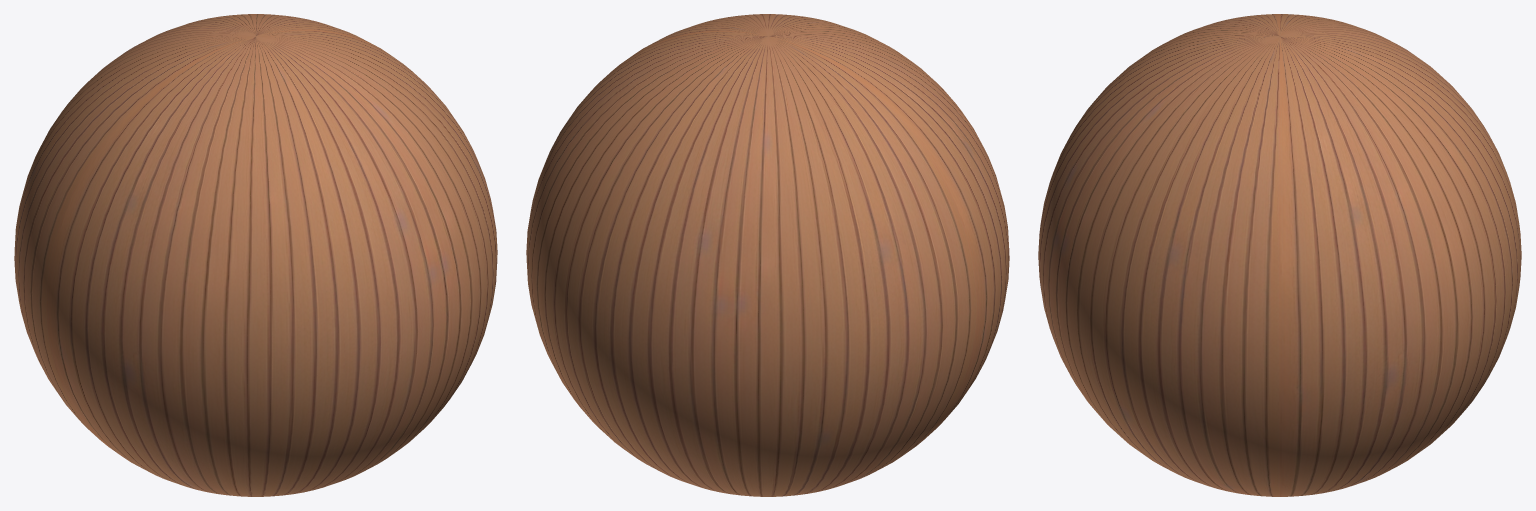
3 views of the same model, side by side, from view 1: azimuth 30°, elevation 25°; view 2: azimuth 150°, elevation 25°; view 3: azimuth 270°, elevation 25° (orthographic).
Visible parts, largest first — view 1: Sphere; view 2: Sphere; view 3: Sphere.
Boxes of the visible parts, x1,y1,x2,y2 form: Sphere: (14, 14, 497, 496); Sphere: (526, 14, 1009, 496); Sphere: (1038, 14, 1521, 496).
Bounding box in the file's own units: 1.7 × 1.7 × 1.7.
1 material, 1 textured.
